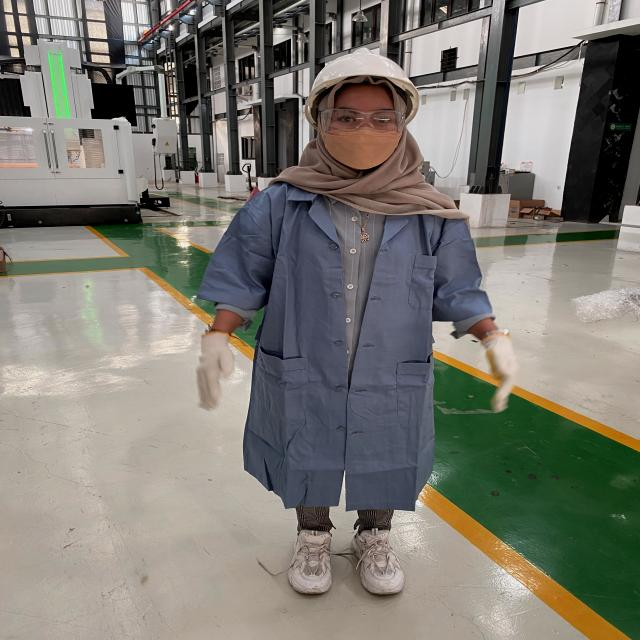face_mask: (316, 105, 406, 170)
glasses: (316, 105, 411, 133)
hand_glove: (184, 332, 241, 413), (472, 338, 528, 415)
head_helmet: (298, 41, 429, 112)
person: (188, 45, 534, 614)
shoes: (339, 524, 408, 600), (271, 524, 341, 597)
